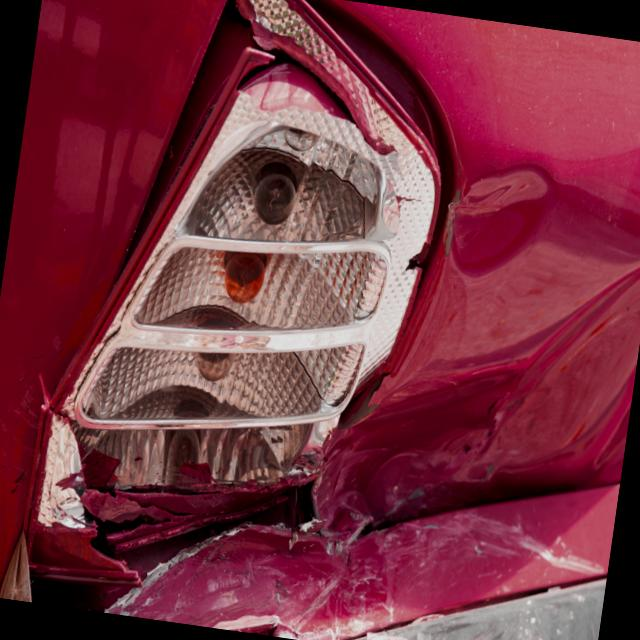Dechirure: (54, 448, 437, 636)
Phare abime: (46, 6, 465, 574)
Rayure: (67, 461, 613, 640)
